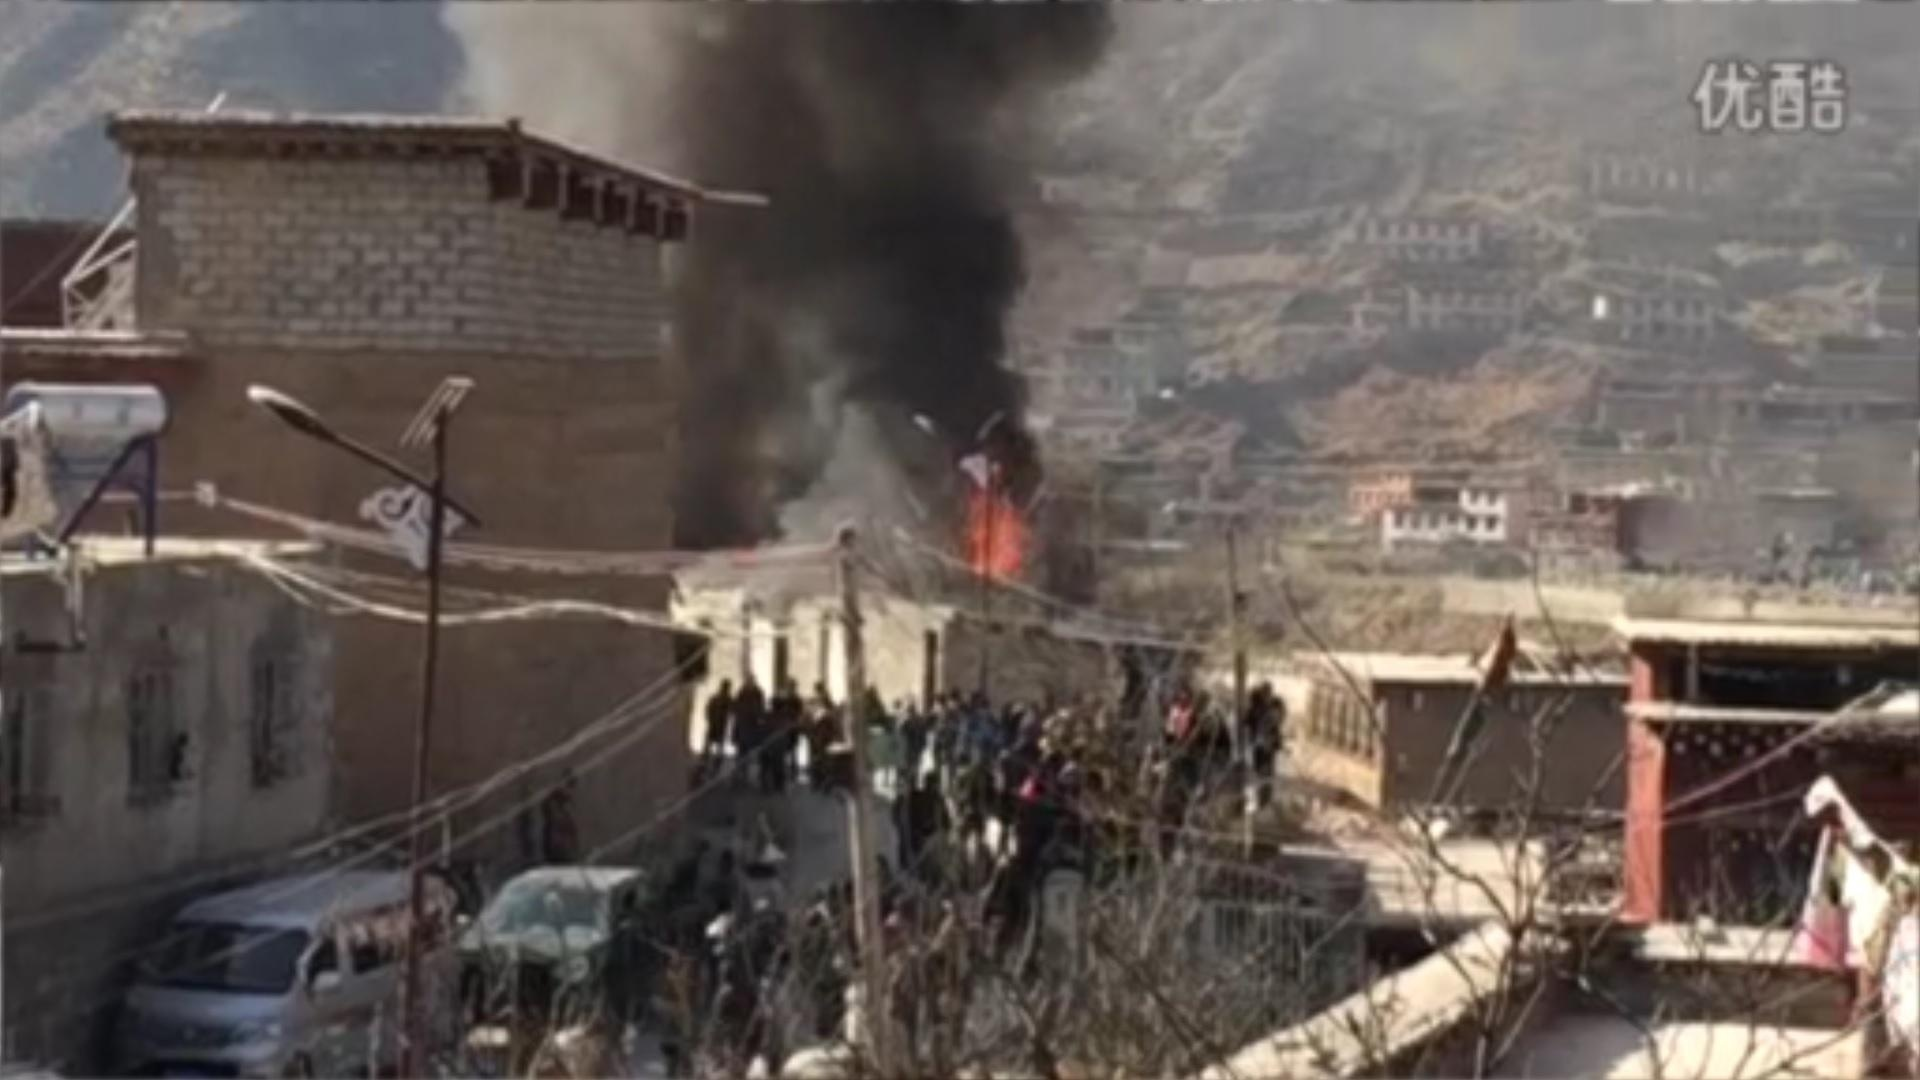fire: (960, 487, 1031, 579)
